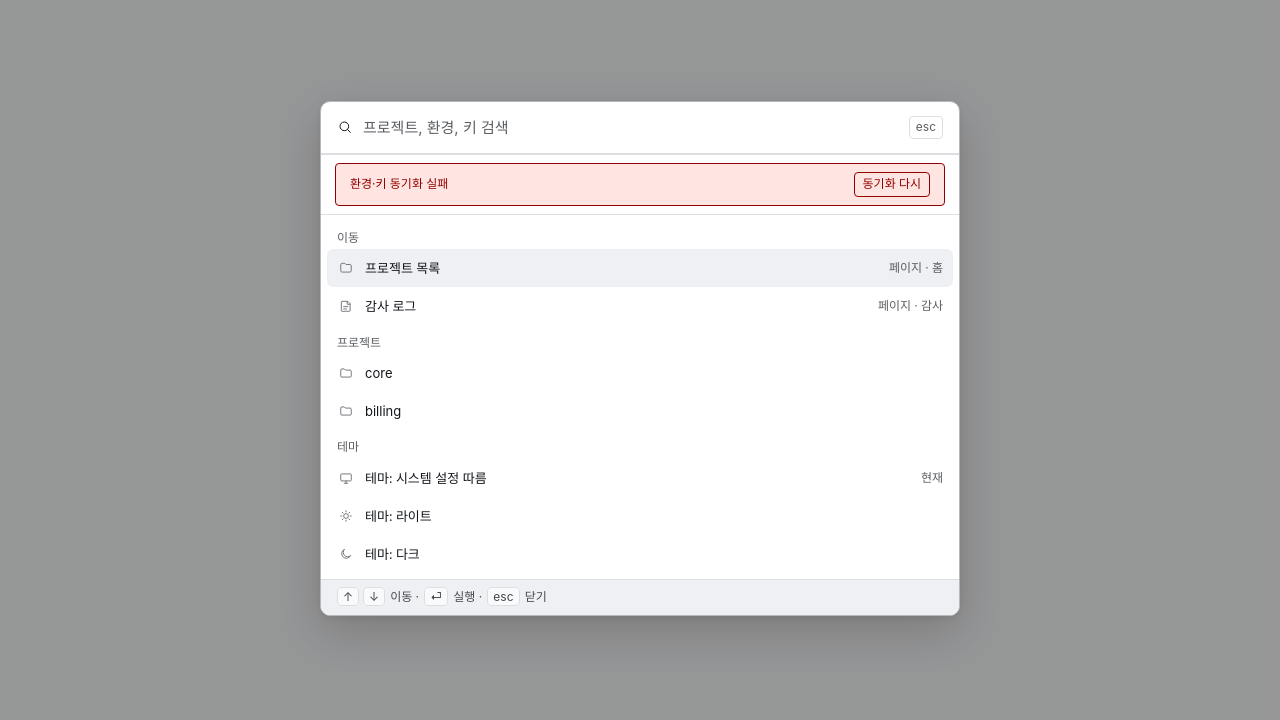
Test: CommandPalette › renders the inline 동기화 실패 banner when prefetch fails and retries on click
Check: the message shows "환경·키 동기화 실패", box [350, 176, 448, 191]
Click the button "동기화 다시": (892,184) [854, 172, 930, 197]
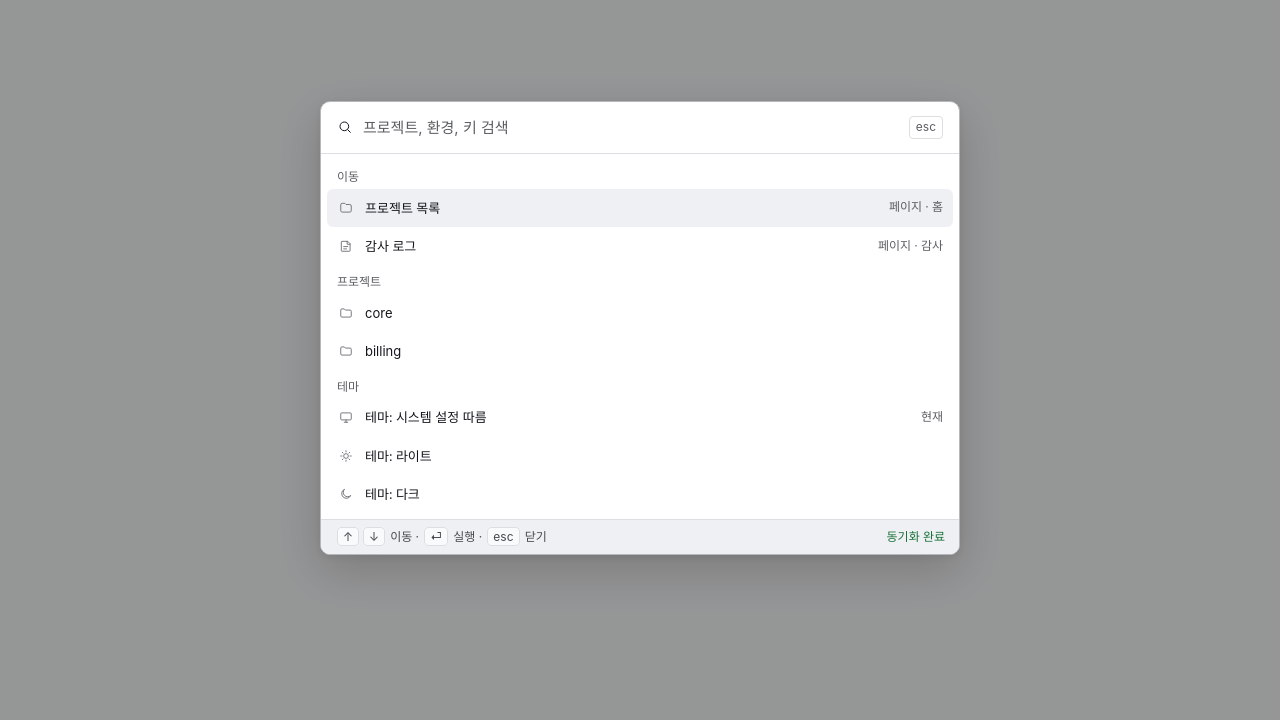
Check: the message "환경·키 동기화 실패 동기화 다시" is gone
Check: the text "동기화 완료" is shown, box [887, 528, 945, 546]
